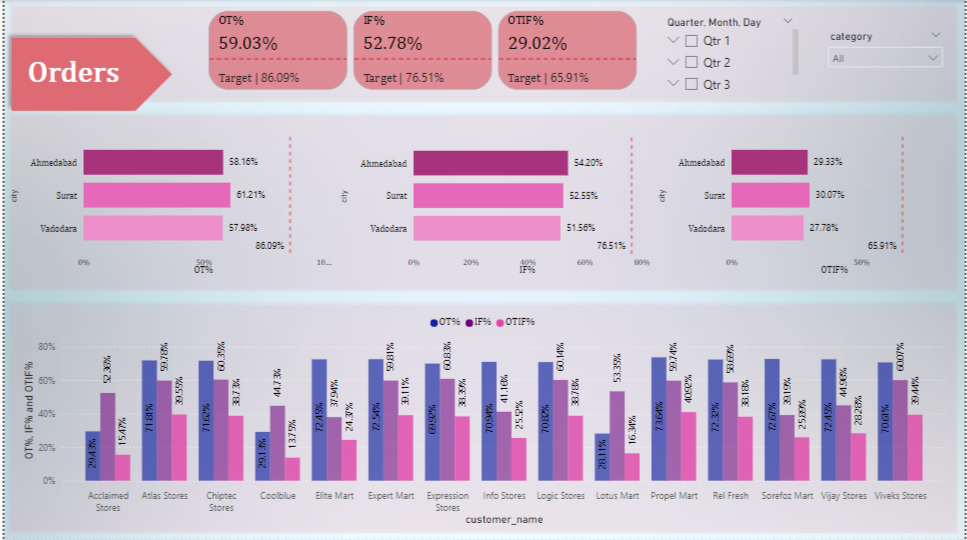

What the dashboard file says about the page in this screenshot:
{"tool":"powerbi","page":{"name":"Page 2","canvas":[1280,720],"ordinal":1},"visuals":[{"type":"shape","box":[1.4,0,1278.6,145.6],"z":0},{"type":"shape","box":[0,145.3,1280,252],"z":1000},{"type":"shape","box":[0,397.3,1280,322.7],"z":2000},{"type":"barChart","fields":{"Category":["dim_customers.city"],"Y":["key_measures.OT%"]},"box":[1.3,169.3,440,202.7],"z":3000},{"type":"slicer","fields":{"Values":["dim_date.date.Variation.Date Hierarchy.Quarter","dim_date.date.Variation.Date Hierarchy.Month","dim_date.date.Variation.Date Hierarchy.Day"]},"box":[870.5,15.7,192.6,112.7],"z":4000},{"type":"lineClusteredColumnComboChart","fields":{"Category":["dim_customers.customer_name","dim_products.product_name"],"Y":["key_measures.OT%","key_measures.IF%","key_measures.OTIF%"]},"box":[18.7,410.7,1241.3,294.7],"z":5000},{"type":"barChart","fields":{"Y":["key_measures.IF%"],"Category":["dim_customers.city"]},"box":[441.3,170.7,424,201.3],"z":6000},{"type":"barChart","fields":{"Category":["dim_customers.city"],"Y":["key_measures.OTIF%"]},"box":[865.3,169.3,394.7,202.7],"z":7000},{"type":"cardVisual","fields":{"Data":["key_measures.OT%","key_measures.IF%","key_measures.OTIF%"]},"box":[252.6,14.3,612.2,105.6],"z":8000},{"type":"slicer","fields":{"Values":["dim_products.category"]},"box":[1087.4,34.2,172.7,65.6],"z":9000},{"type":"shape","box":[0,41.4,232.6,115.6],"z":10000}]}

Visuals, with their boxes in screenshot pixels (x1, y1, x2, y2), scaled from the page's 1280x720 canvas onto the 967x540 screenshot:
shape: [1, 0, 966, 109]
shape: [0, 109, 966, 298]
shape: [0, 298, 966, 539]
barChart - dim_customers.city x key_measures.OT%: [1, 127, 333, 279]
slicer - dim_date.date.Variation.Date Hierarchy.Quarter x dim_date.date.Variation.Date Hierarchy.Month: [658, 12, 803, 96]
lineClusteredColumnComboChart - dim_customers.customer_name x dim_products.product_name: [14, 308, 952, 529]
barChart - key_measures.IF% x dim_customers.city: [333, 128, 654, 279]
barChart - dim_customers.city x key_measures.OTIF%: [654, 127, 952, 279]
cardVisual - key_measures.OT% x key_measures.IF%: [191, 11, 653, 90]
slicer - dim_products.category: [821, 26, 952, 75]
shape: [0, 31, 176, 118]
